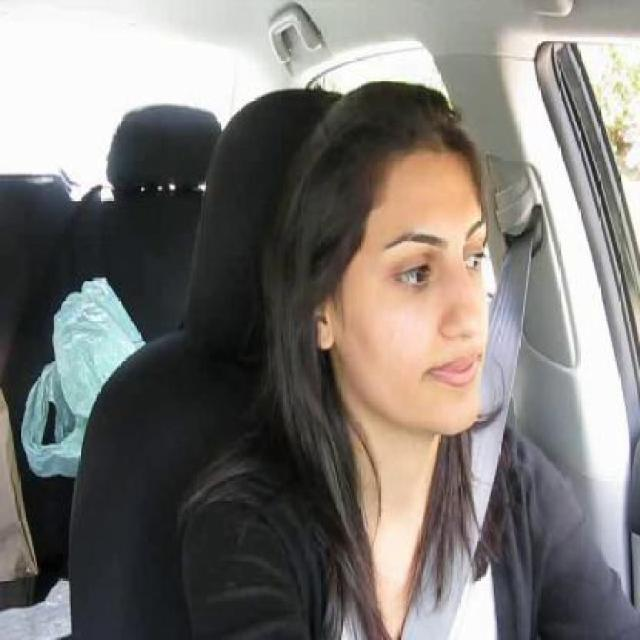awake: (396, 259, 436, 287), (462, 244, 487, 271)
